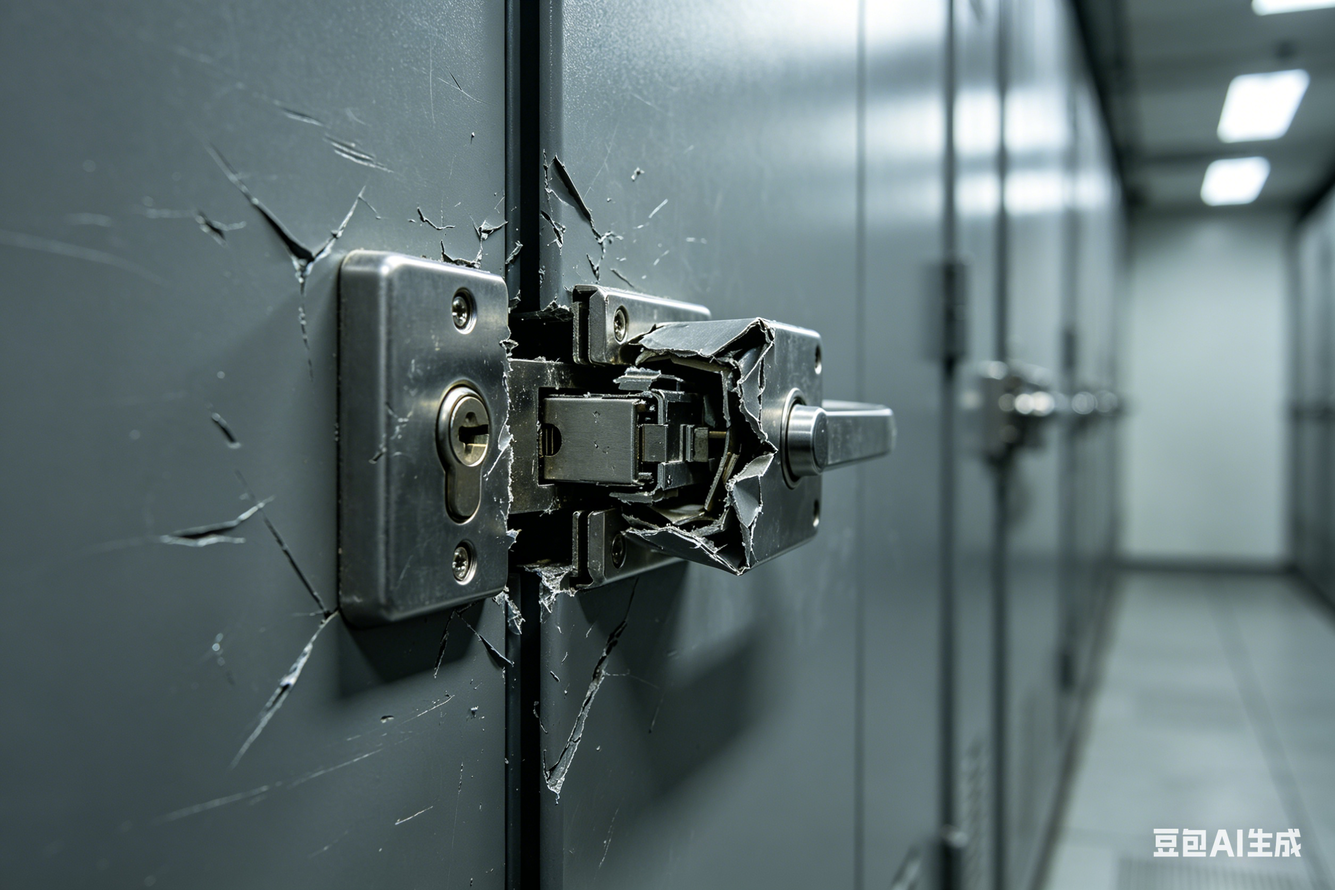BadLock: (501, 286, 771, 576)
